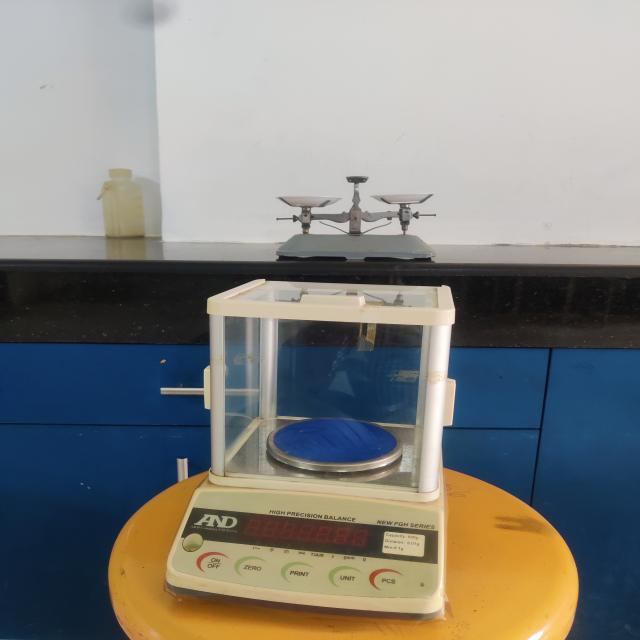Mechanical_Balance_Scale: (262, 158, 466, 272)
Precision_Weight_Scale: (146, 256, 495, 640)
